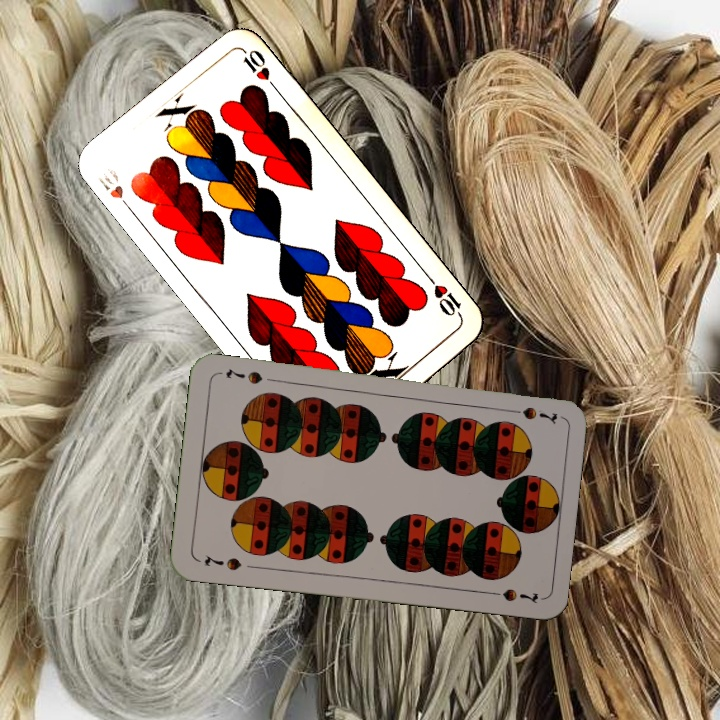H10: (424, 272, 466, 323), (94, 173, 136, 215)
S7: (502, 402, 560, 426), (200, 551, 244, 573)
